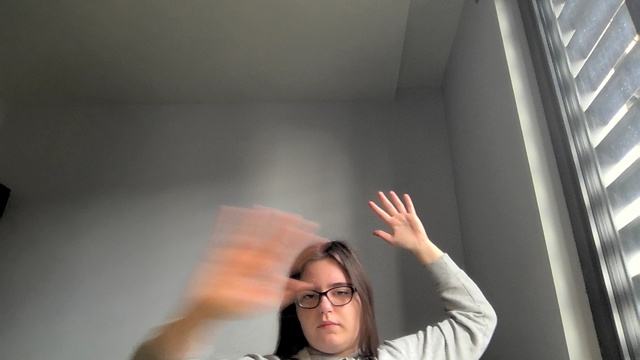hand: (198, 202, 318, 326), (368, 189, 425, 246)
